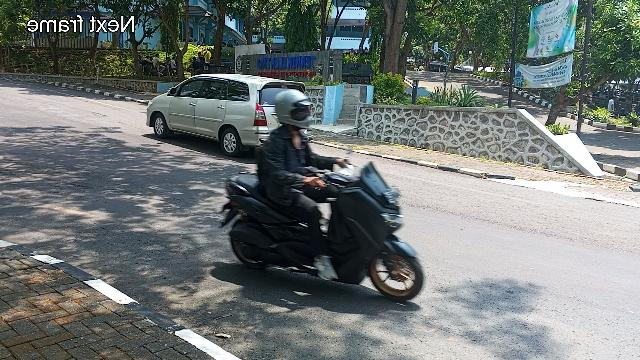helm: (274, 90, 315, 131)
motor: (217, 145, 428, 305)
